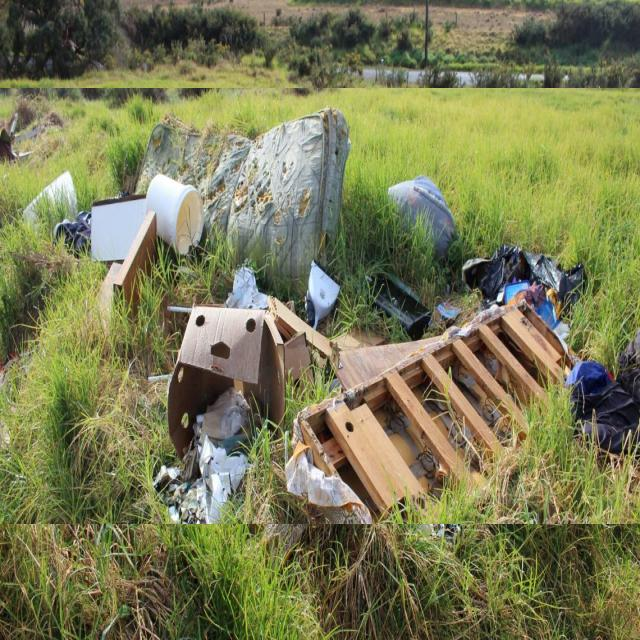dumping: (0, 88, 640, 524)
